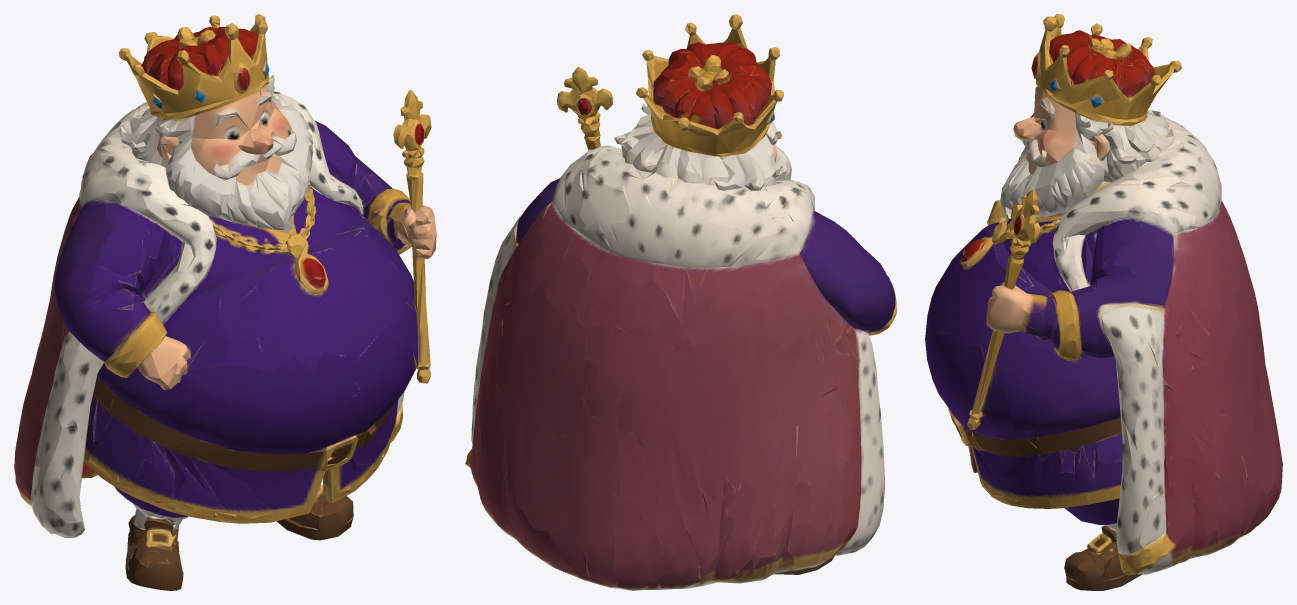
File: king_blue_fattest.glb
3 renders of one model, left to right at view 1: azimuth 30°, elevation 25°; view 2: azimuth 150°, elevation 25°; view 3: azimuth 270°, elevation 25°, orthographic. The views are drawn at different scales.
Parts seen in each view (by area): view 1: output_unwrapped; view 2: output_unwrapped; view 3: output_unwrapped.
Boxes of the visible parts, <box> form: output_unwrapped: <box>14,14,436,590</box>; output_unwrapped: <box>465,14,896,590</box>; output_unwrapped: <box>925,14,1282,590</box>.
Size of the model in its own units: 1.41 by 1.9 by 1.2.
Materials: 1 (1 with a texture image).
